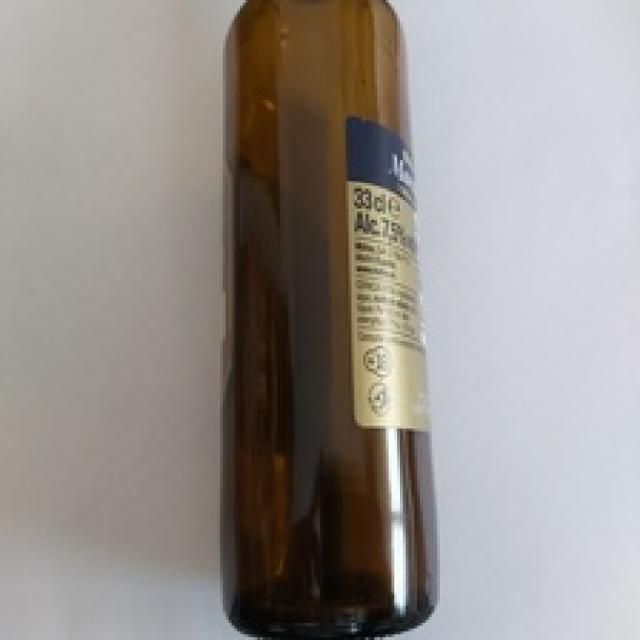Glass: (225, 0, 438, 640)
